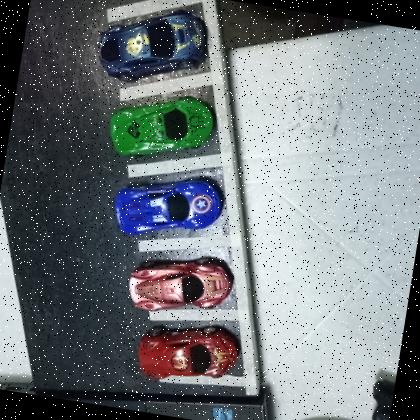Car: (91, 0, 211, 94), (104, 83, 221, 170), (109, 166, 228, 249), (124, 245, 237, 325), (132, 315, 245, 394)
